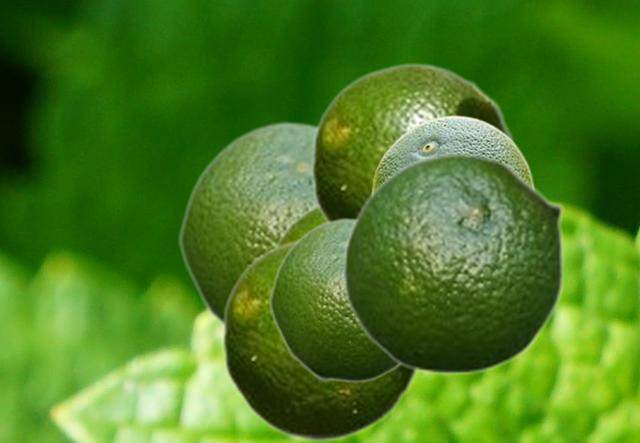calamansi: (342, 152, 565, 375), (220, 235, 420, 441), (309, 62, 516, 222), (177, 119, 317, 330), (268, 216, 401, 382), (371, 115, 534, 190), (269, 202, 323, 247)
